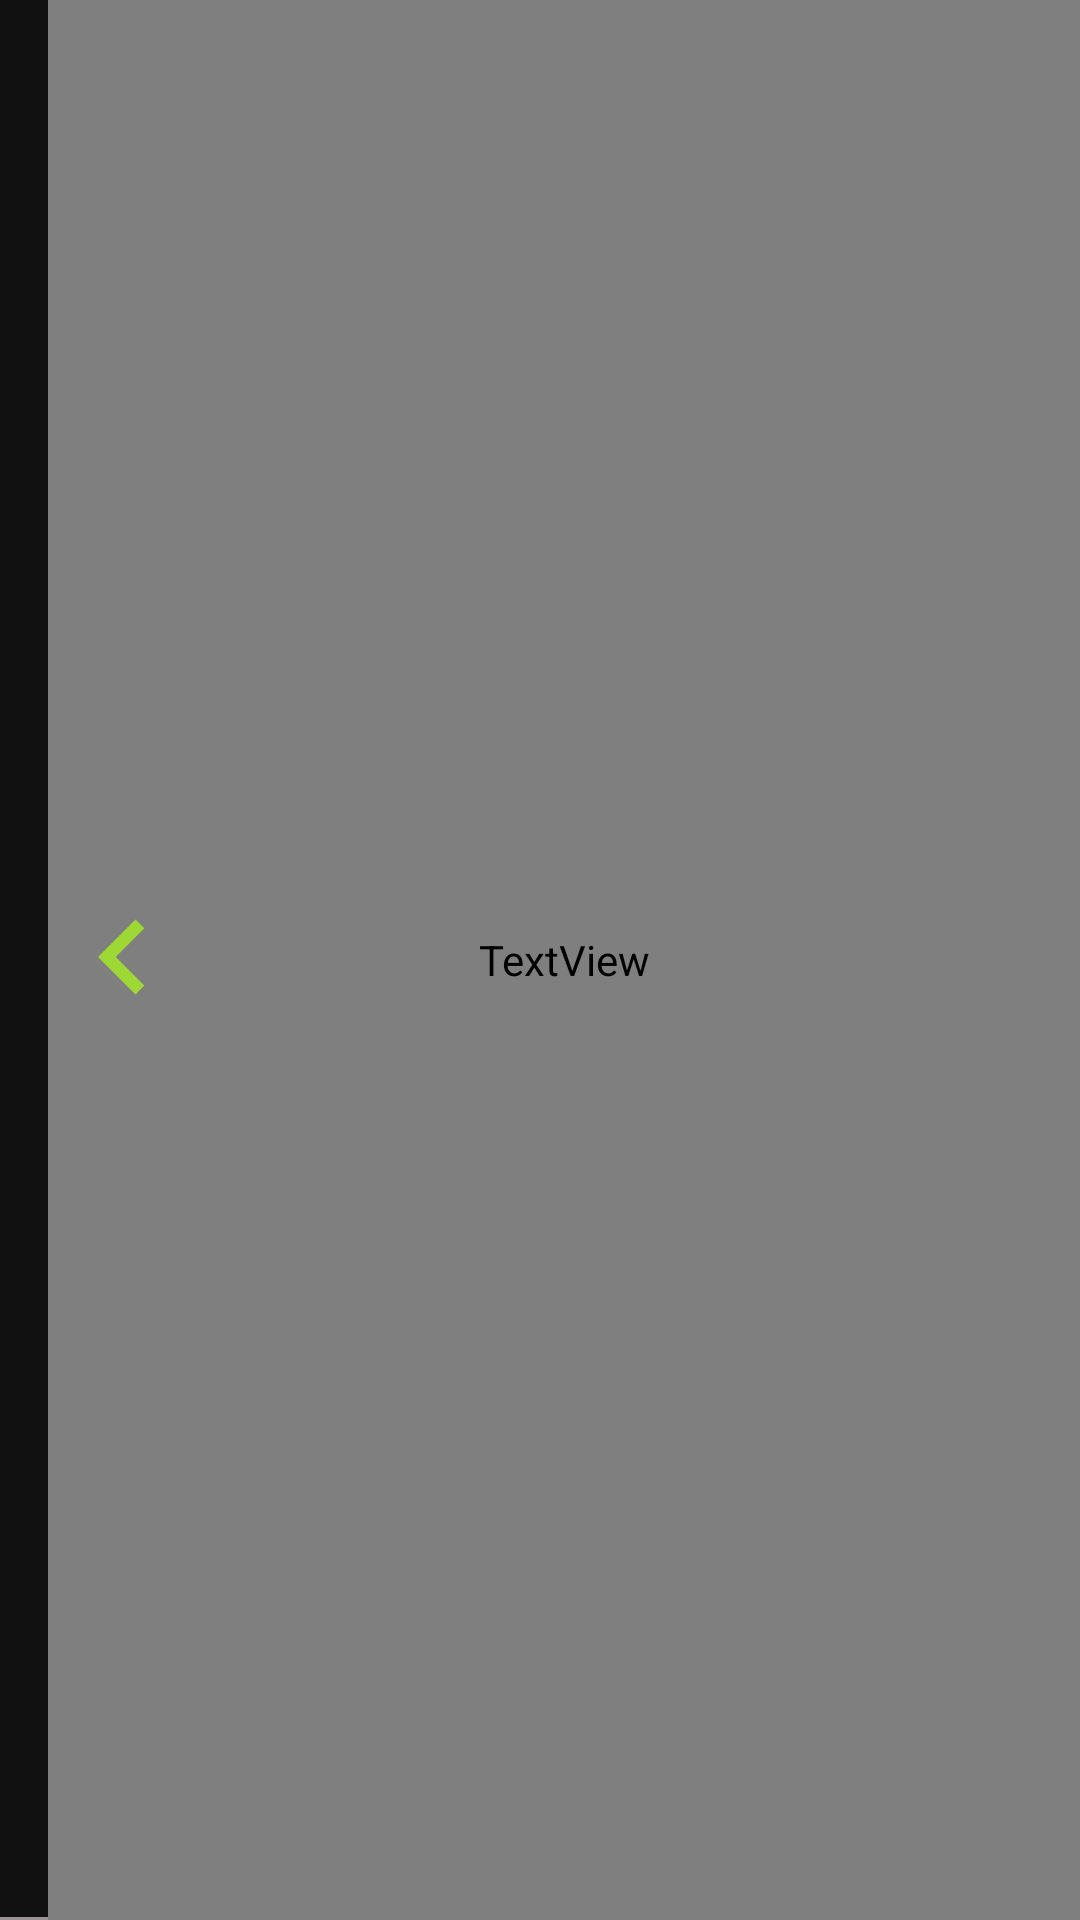

Named icons in this screenshot (1080 x 1920) and their centers, point (x, y):
back: point (121, 957)
